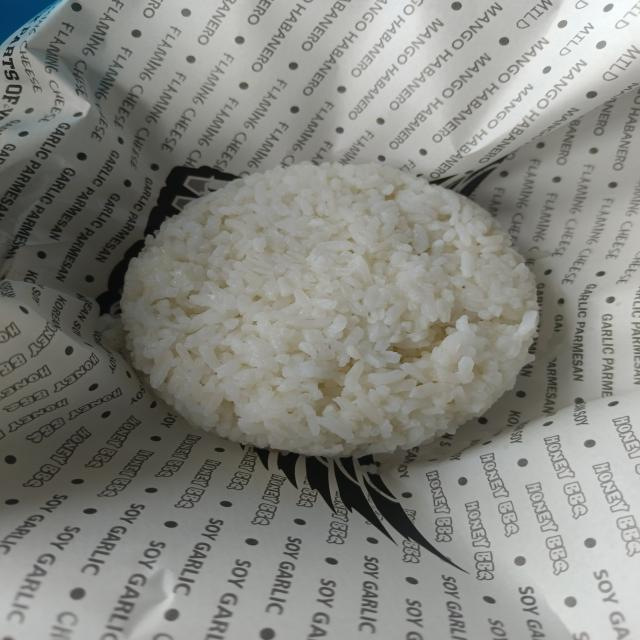Chicken -Chicken Inasal-: (174, 175, 529, 456)
